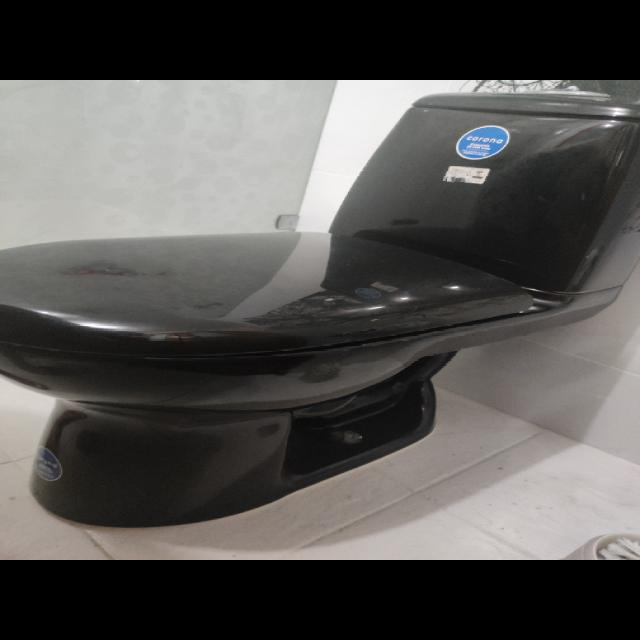toilet: (0, 84, 639, 546)
